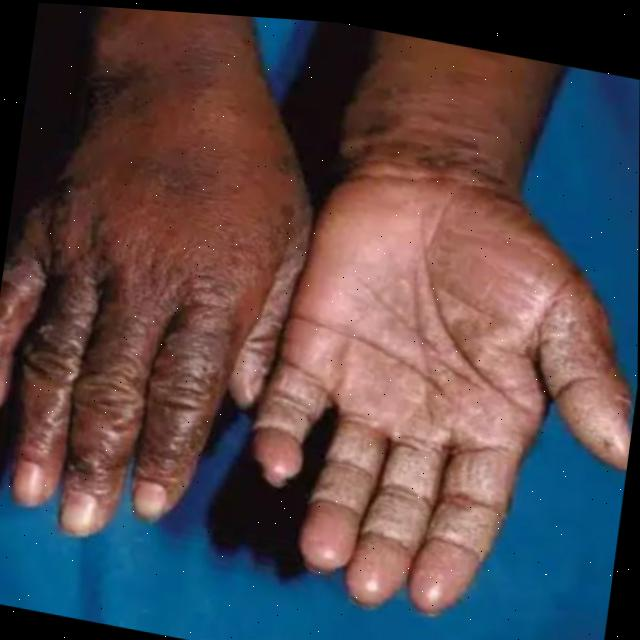Eczema: (15, 53, 570, 562)
